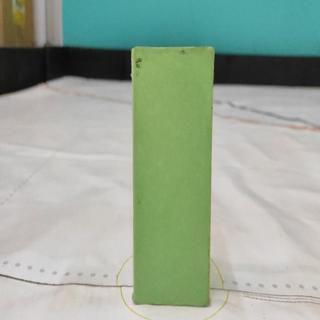greenbox: (131, 48, 210, 307)
